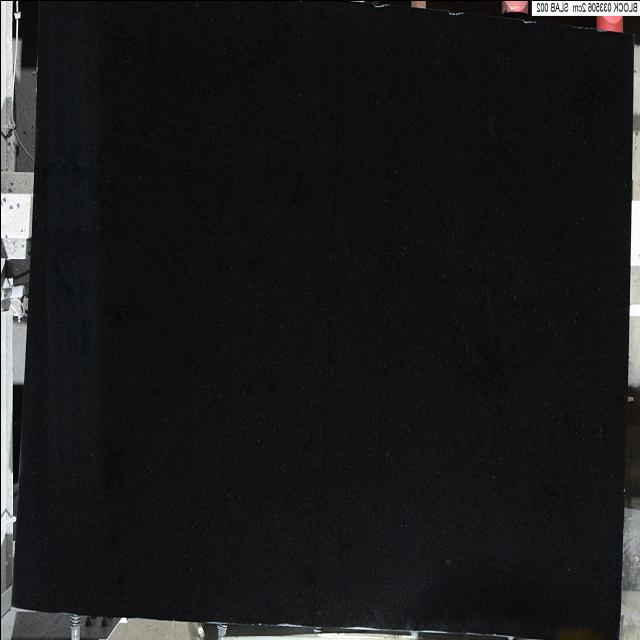chapa: (12, 2, 632, 638)
